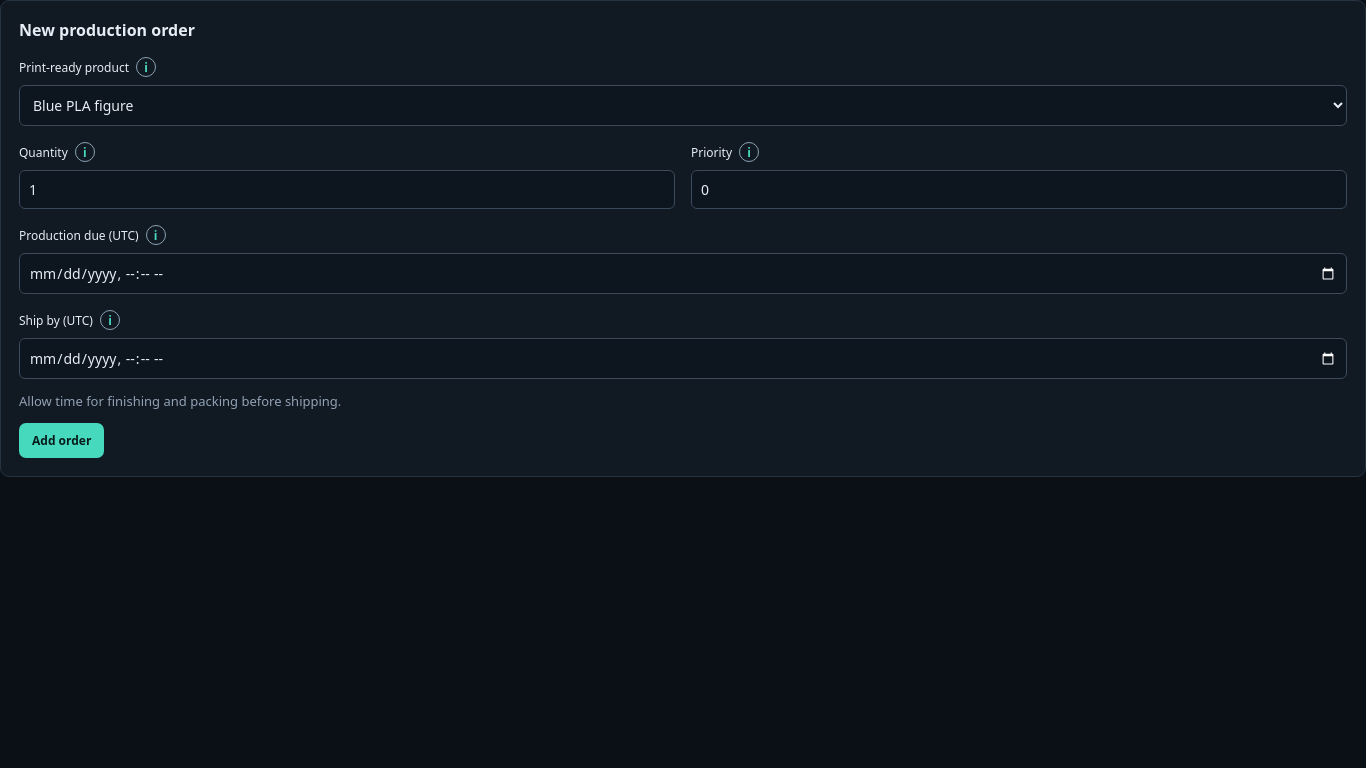
Test case: preserves entered values and explains a rejected request
The image size is (1366, 768).
Type "2026-11-15T12:00" into the field labelled "Production due (UTC)" at (683, 274), box [19,253,1347,294]
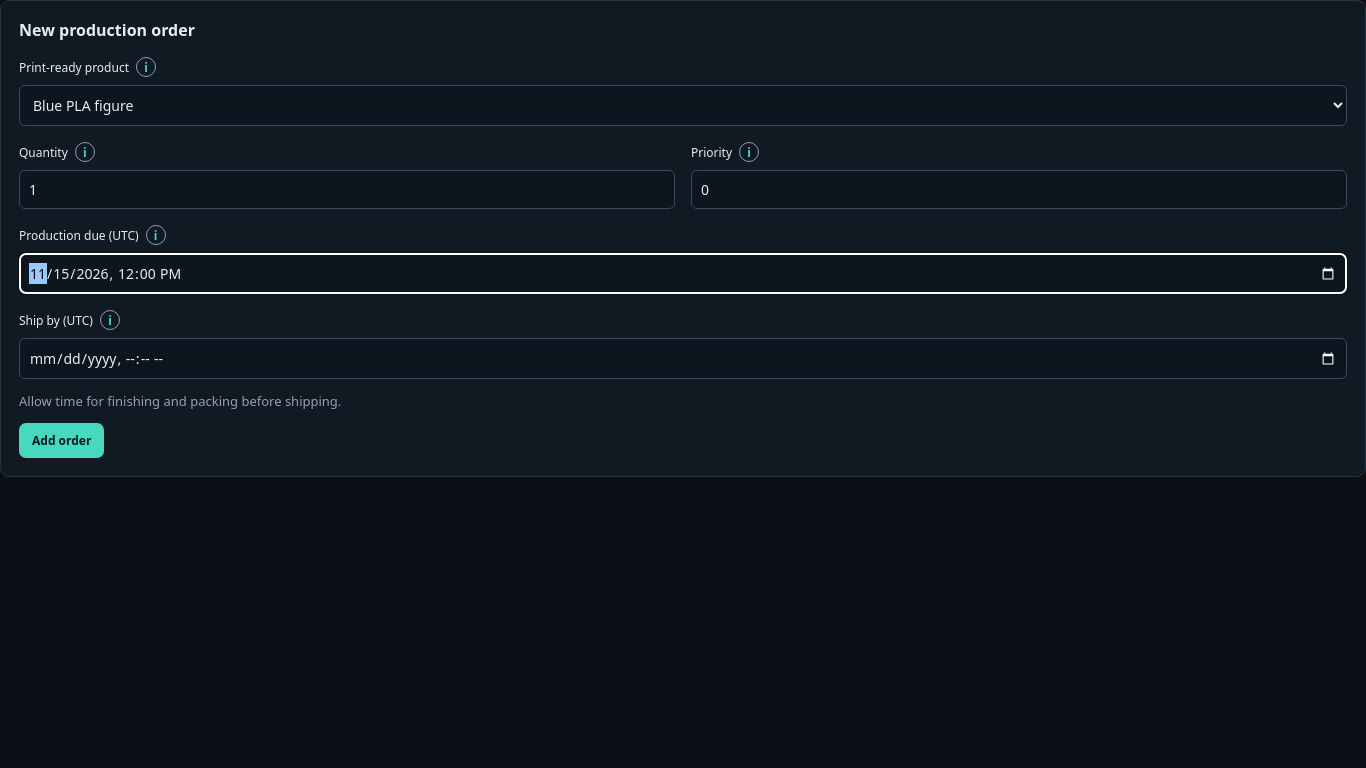
Type "2026-11-16T12:00" into the field labelled "Ship by (UTC)" at (683, 358), box [19,338,1347,379]
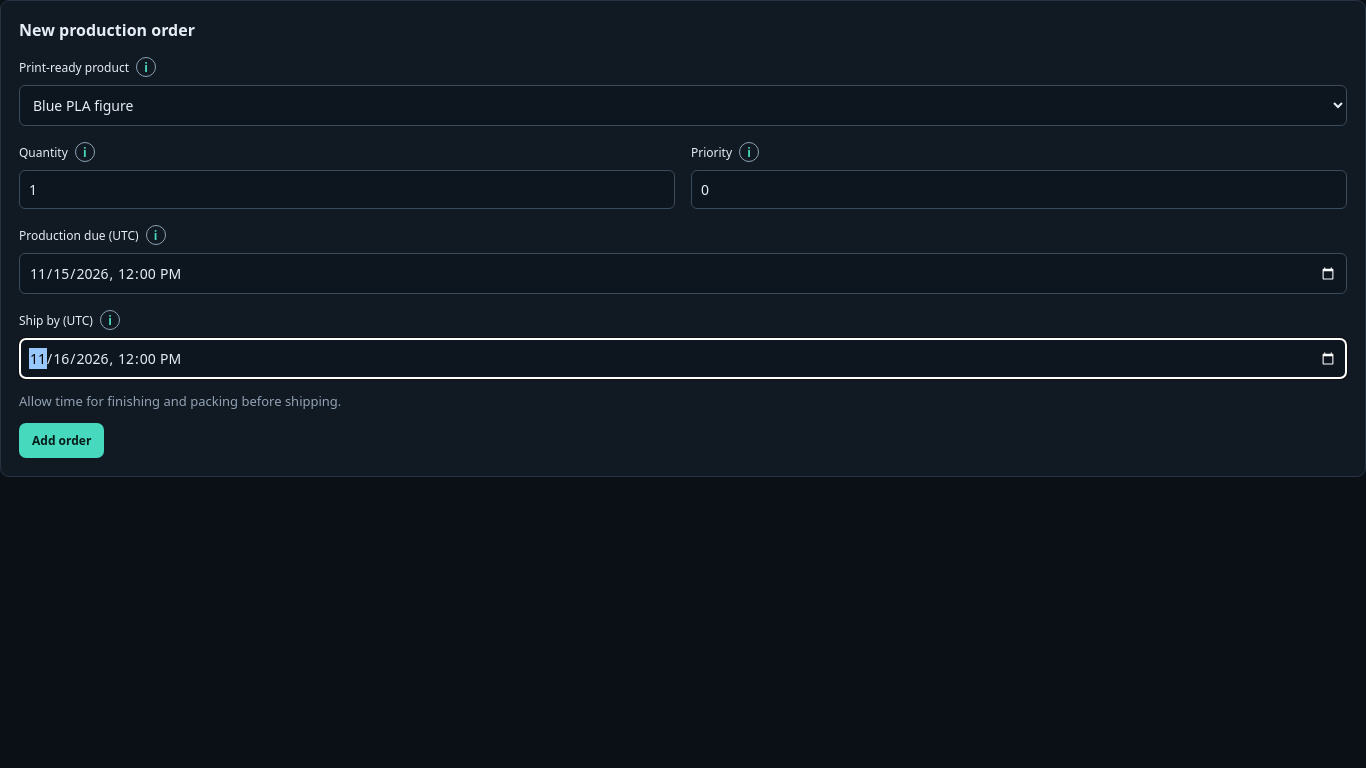
Click the button "Add order" at (62, 440), box [19,423,104,458]
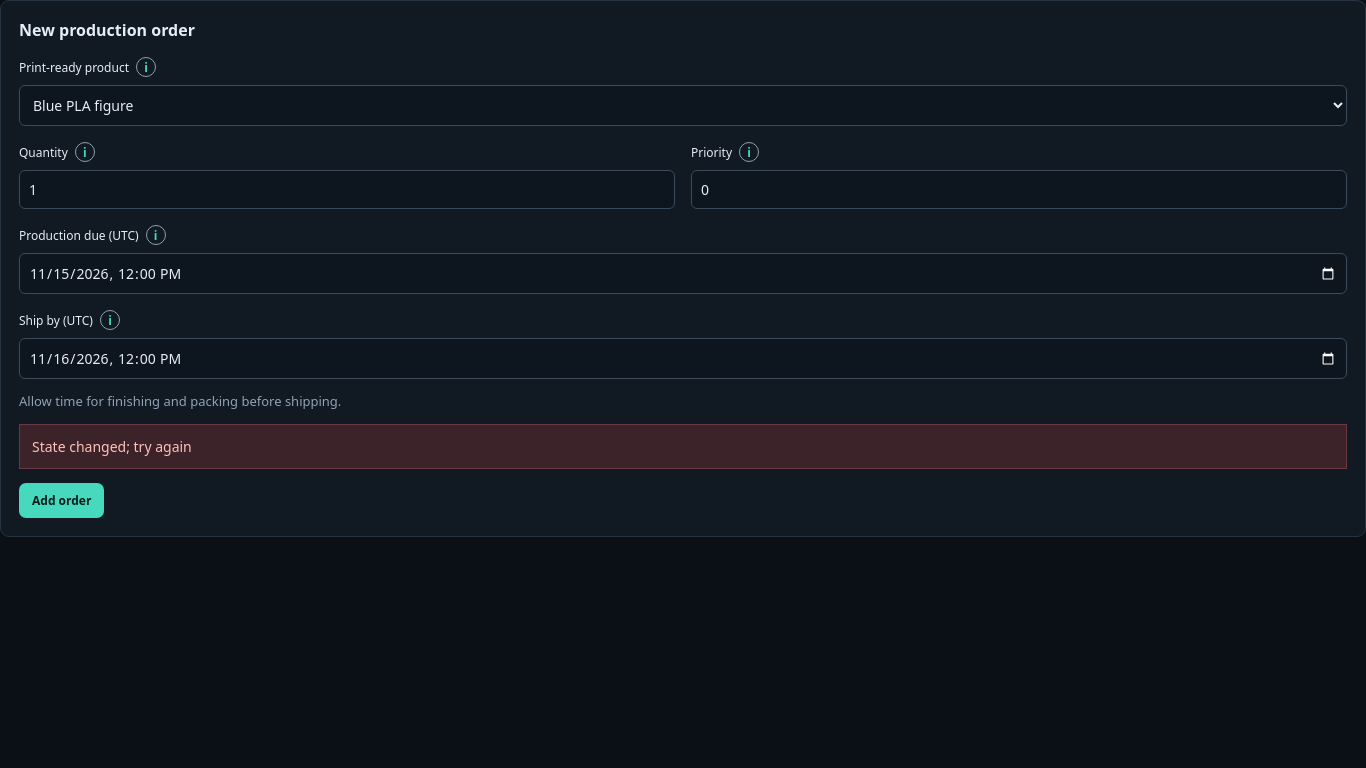
Expected: the number field labelled "Quantity" holds "1", [19,170,675,209]
Expected: the message reads "State changed; try again", [32,437,192,456]
